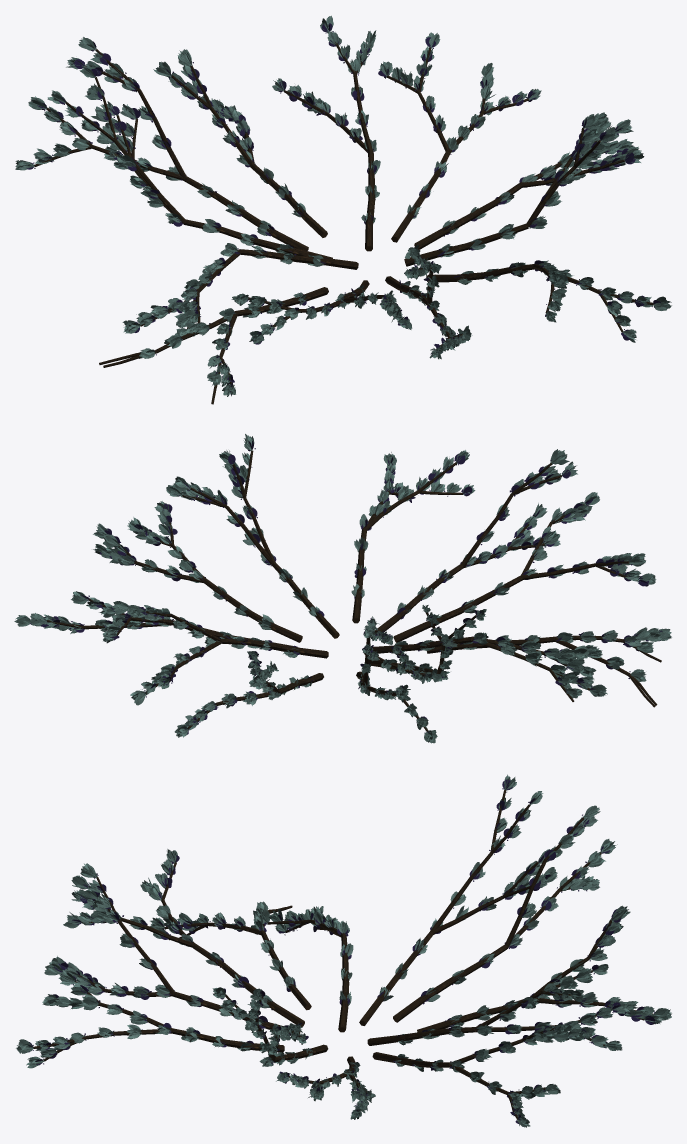
The model's file is bilberry_low_v02.fbx.
The picture shows the model from 3 angles, top to bottom: view 1: azimuth 30°, elevation 25°; view 2: azimuth 150°, elevation 25°; view 3: azimuth 270°, elevation 25°; orthographic projection. The views are drawn at different scales.
Parts seen in each view (by area): view 1: bilberry_low_v02; view 2: bilberry_low_v02; view 3: bilberry_low_v02.
Part boxes in pixels (<box>): bilberry_low_v02: <box>15,15,671,404</box>; bilberry_low_v02: <box>14,434,671,743</box>; bilberry_low_v02: <box>16,774,671,1127</box>.
Bounding box in the file's own units: 113 × 35.7 × 119.
2 materials, 2 textured.
